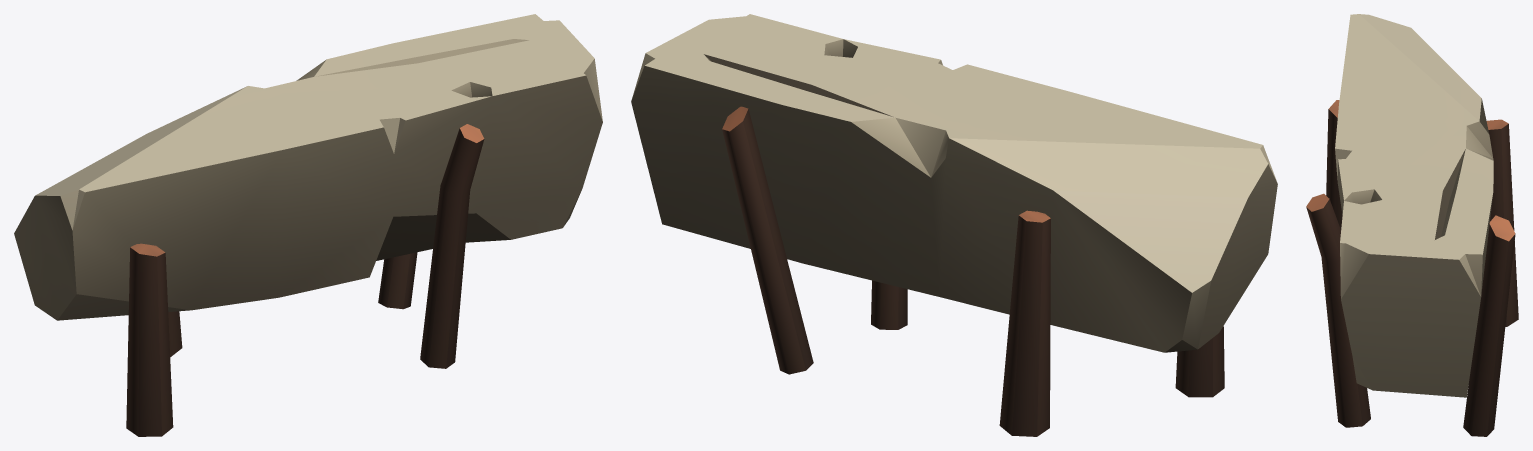
Rendered from Table_2B.fbx.
The picture shows the model from 3 angles, left to right: view 1: azimuth 30°, elevation 25°; view 2: azimuth 150°, elevation 25°; view 3: azimuth 270°, elevation 25°; orthographic projection. The views are drawn at different scales.
Visible parts, largest first — view 1: Table_2B; view 2: Table_2B; view 3: Table_2B.
Part boxes in pixels (x1=…): Table_2B: x1=14, y1=14, x2=602, y2=436; Table_2B: x1=631, y1=14, x2=1277, y2=436; Table_2B: x1=1306, y1=14, x2=1518, y2=436.
Bounding box in the file's own units: 1.86 × 0.8294 × 0.6557.
